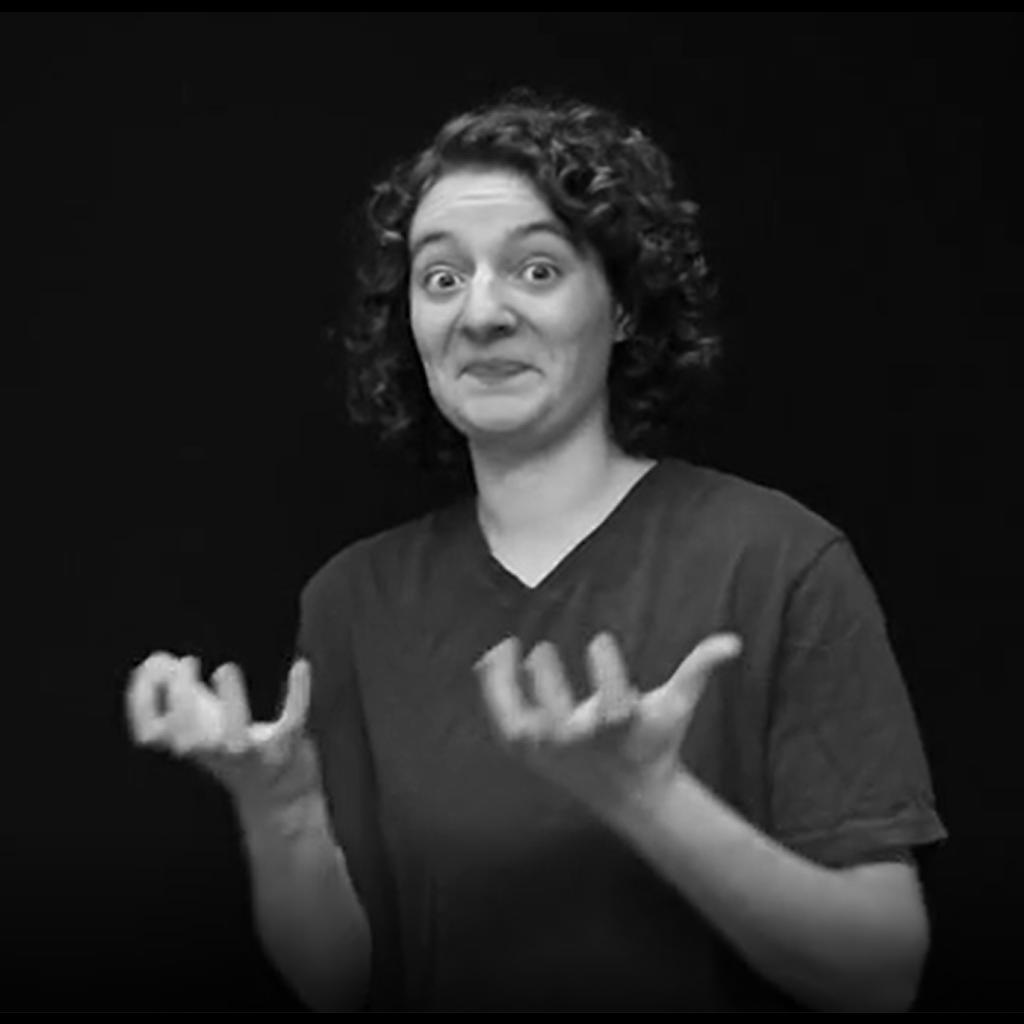want: (129, 634, 741, 796)
